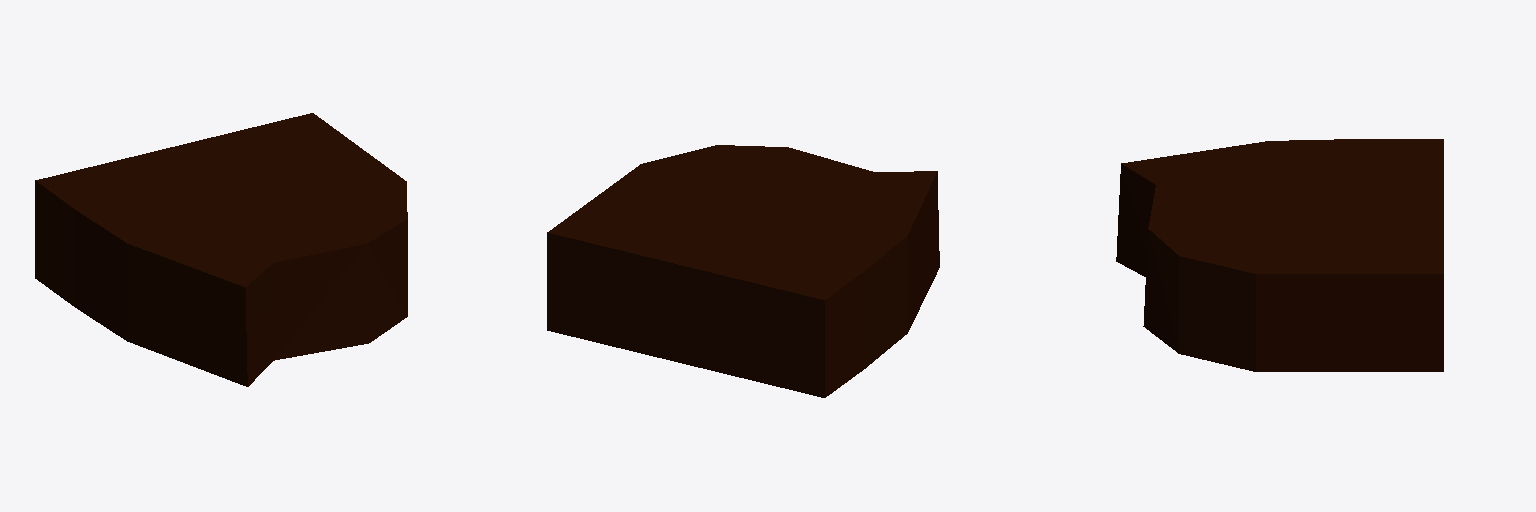
Rendered from yuka4.obj.
3 renders of one model, left to right at view 1: azimuth 30°, elevation 25°; view 2: azimuth 150°, elevation 25°; view 3: azimuth 270°, elevation 25°, orthographic.
Parts seen in each view (by area): view 1: 立方体_立方体.002; view 2: 立方体_立方体.002; view 3: 立方体_立方体.002.
Boxes of the visible parts, <box> form: 立方体_立方体.002: <box>35,113,407,386</box>; 立方体_立方体.002: <box>547,145,939,397</box>; 立方体_立方体.002: <box>1116,139,1443,371</box>.
Bounding box in the file's own units: 81.85 × 27.88 × 83.63.